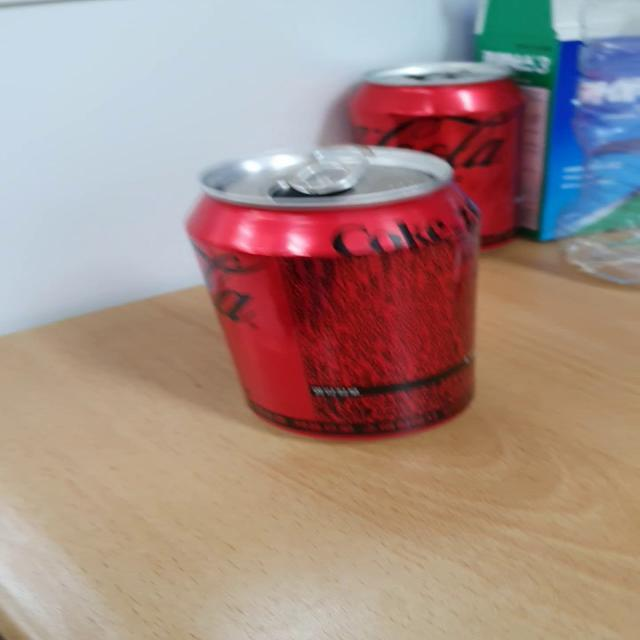coca-cola: (178, 138, 502, 450)
